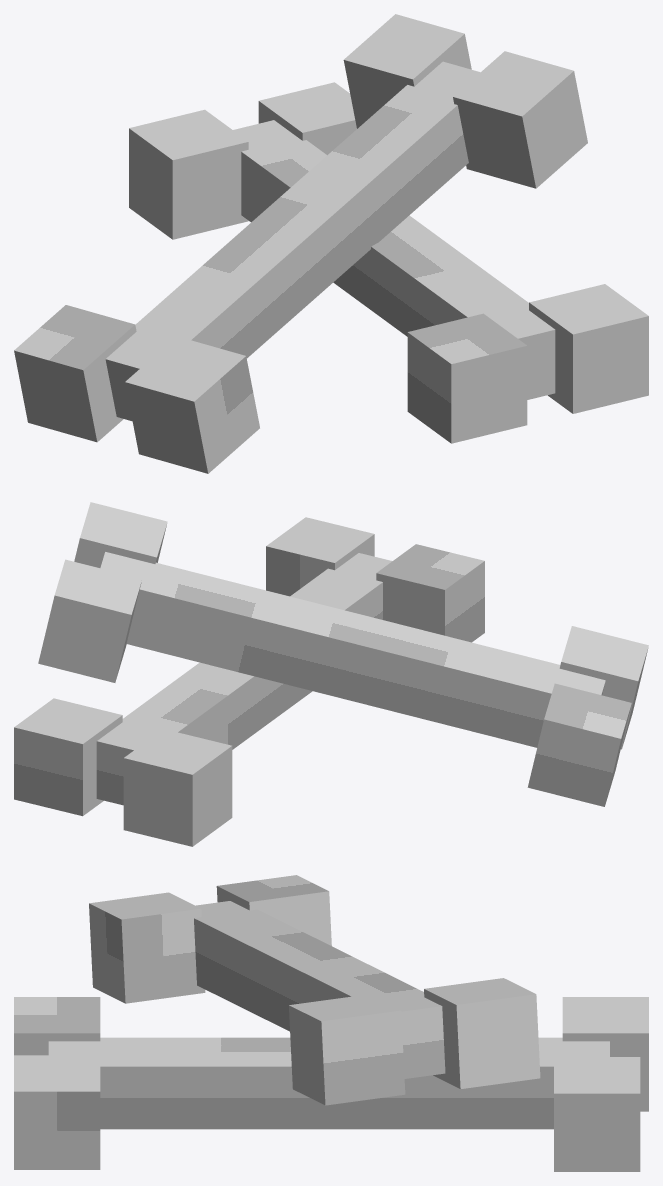
File: bones.gltf
The picture shows the model from 3 angles, top to bottom: view 1: azimuth 30°, elevation 25°; view 2: azimuth 150°, elevation 25°; view 3: azimuth 270°, elevation 25°; orthographic projection. The views are drawn at different scales.
Visible parts, largest first — view 1: cube (×14); view 2: cube (×14); view 3: cube (×13).
Part boxes in pixels (left/top/right/bottom): cube (×14): left=14, top=14, right=648, bottom=473; cube (×14): left=14, top=502, right=648, bottom=846; cube (×13): left=14, top=875, right=648, bottom=1171.
Size of the model in its own units: 0.9685 by 0.3277 by 0.9188.
1 material, 1 textured.
